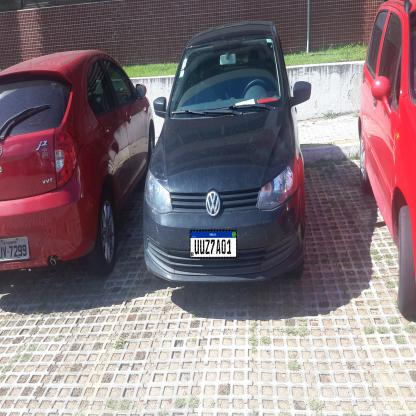PlacaM: (190, 230, 237, 258)
